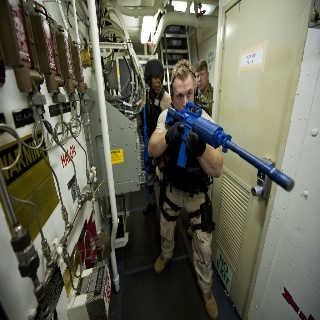rifle: (165, 102, 295, 197)
